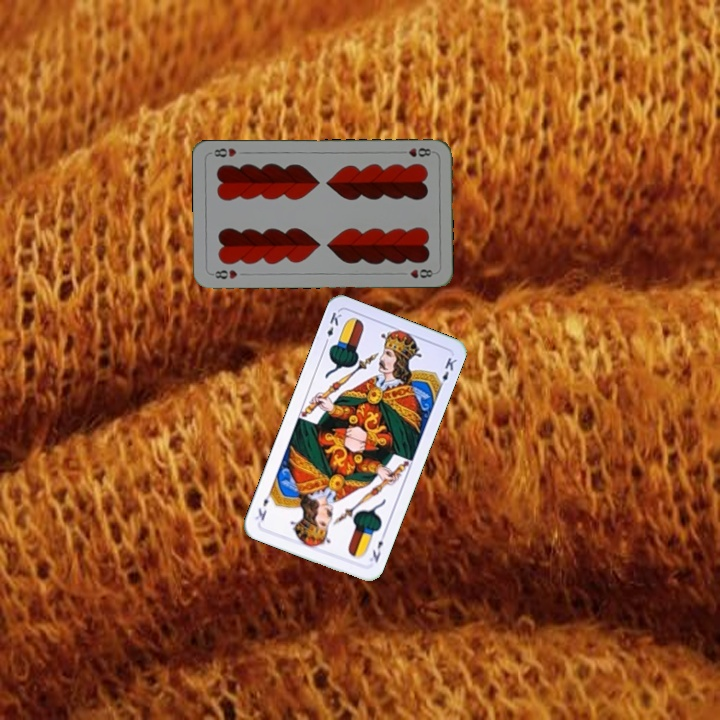EK: (320, 308, 344, 348), (365, 528, 388, 565)
H8: (396, 144, 436, 159), (208, 265, 240, 281)
